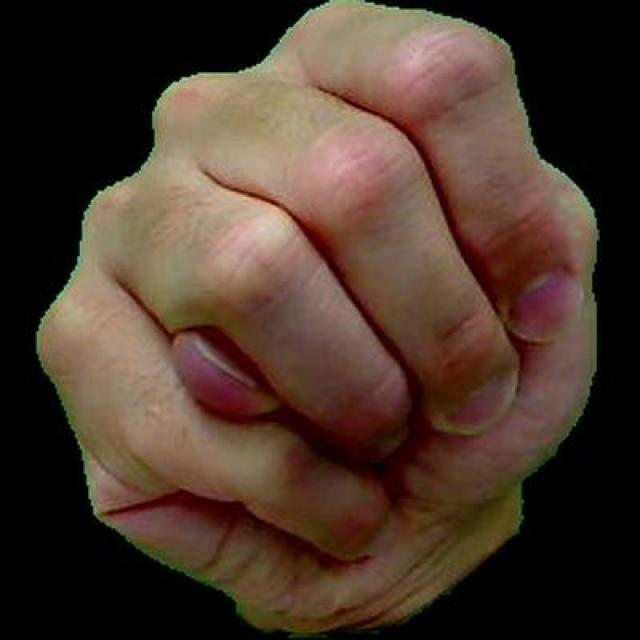m: (22, 0, 613, 637)
